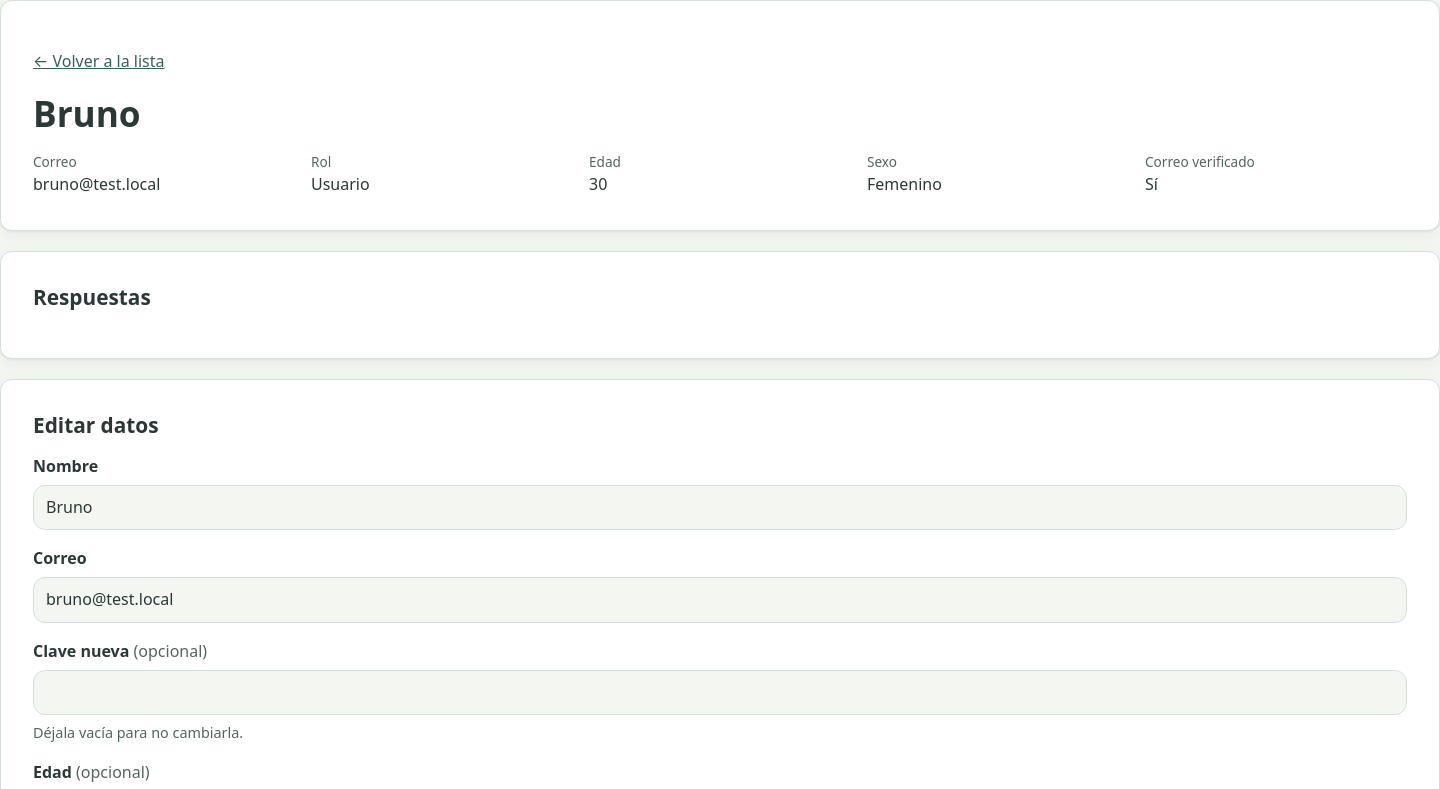
Scenario: después de editar muestra los datos nuevos
This screenshot has width=1440, height=789.
Replace the text in the field labelled "Nombre" with "Bruno Díaz" at (720, 508), box [33,485,1407,530]
(page scrolled)
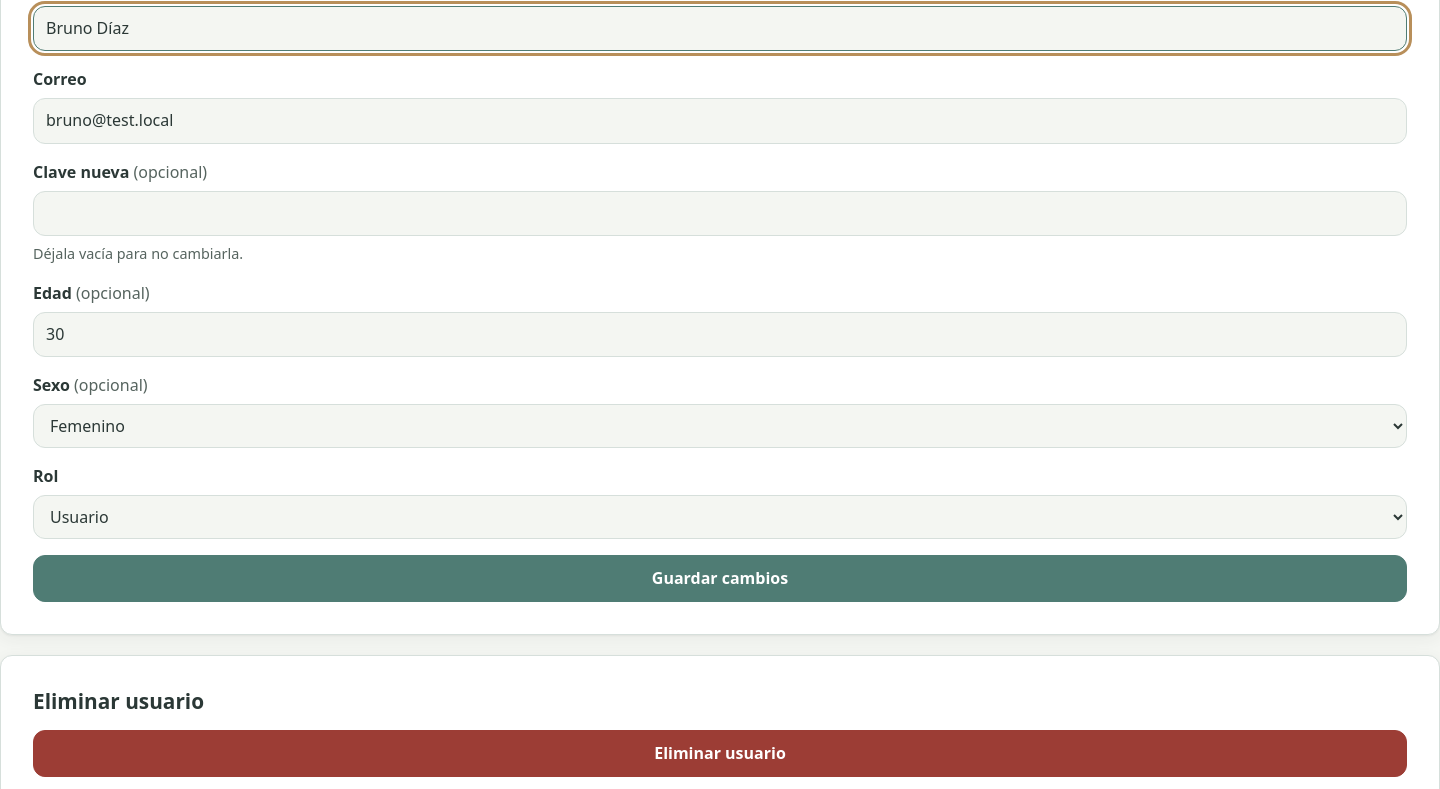
Click the button "Guardar cambios".
click(720, 579)  # box [33,555,1407,602]
(page scrolled)
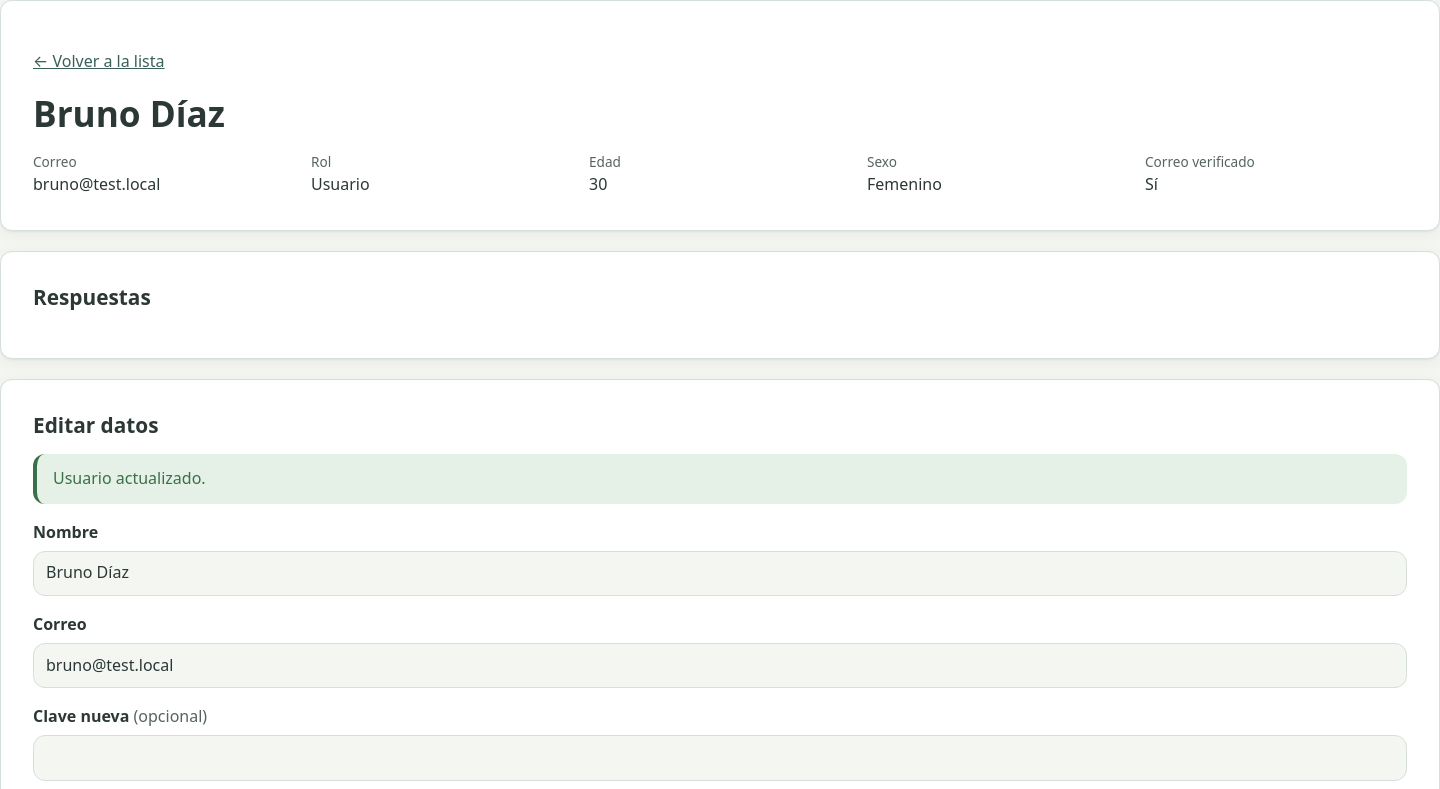
Result: the heading "Bruno Díaz" is shown at [33,89,225,137]
